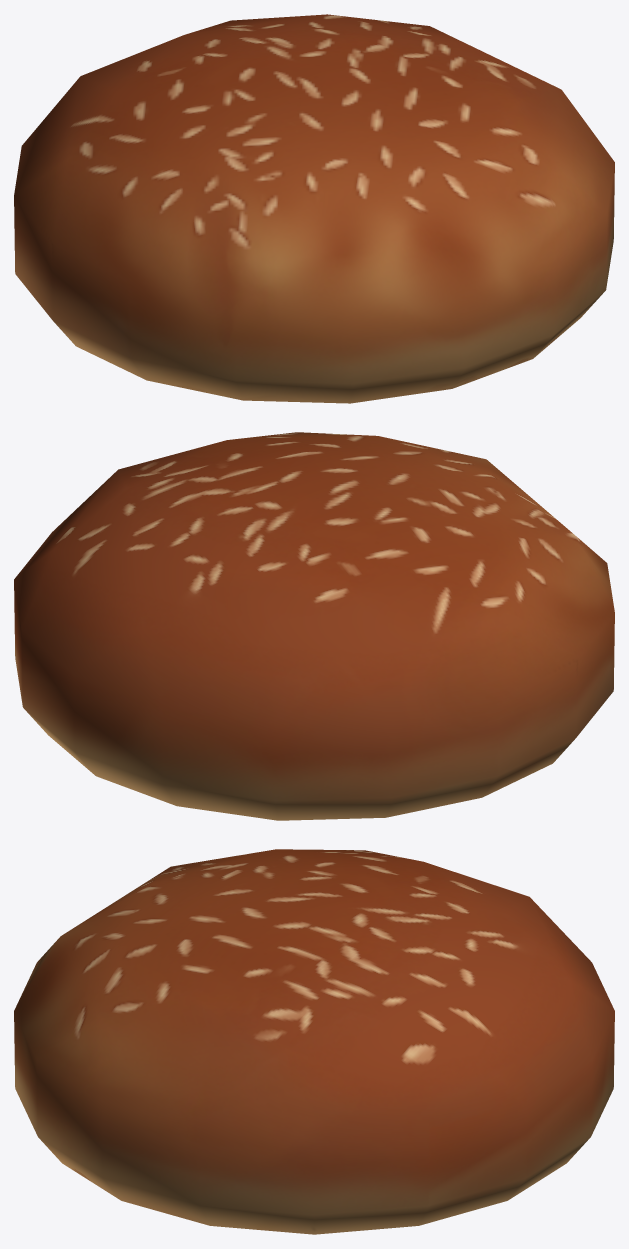
The model's file is burgerbreadtop.fbx.
3 renders of one model, top to bottom at view 1: azimuth 30°, elevation 25°; view 2: azimuth 150°, elevation 25°; view 3: azimuth 270°, elevation 25°, orthographic.
Parts seen in each view (by area): view 1: burgerbreadtop; view 2: burgerbreadtop; view 3: burgerbreadtop.
Part boxes in pixels (x1,y1,x2,y2): burgerbreadtop: (14,14,614,403); burgerbreadtop: (14,432,614,820); burgerbreadtop: (14,849,614,1234).
Bounding box in the file's own units: 28.51 × 11.23 × 28.51.
